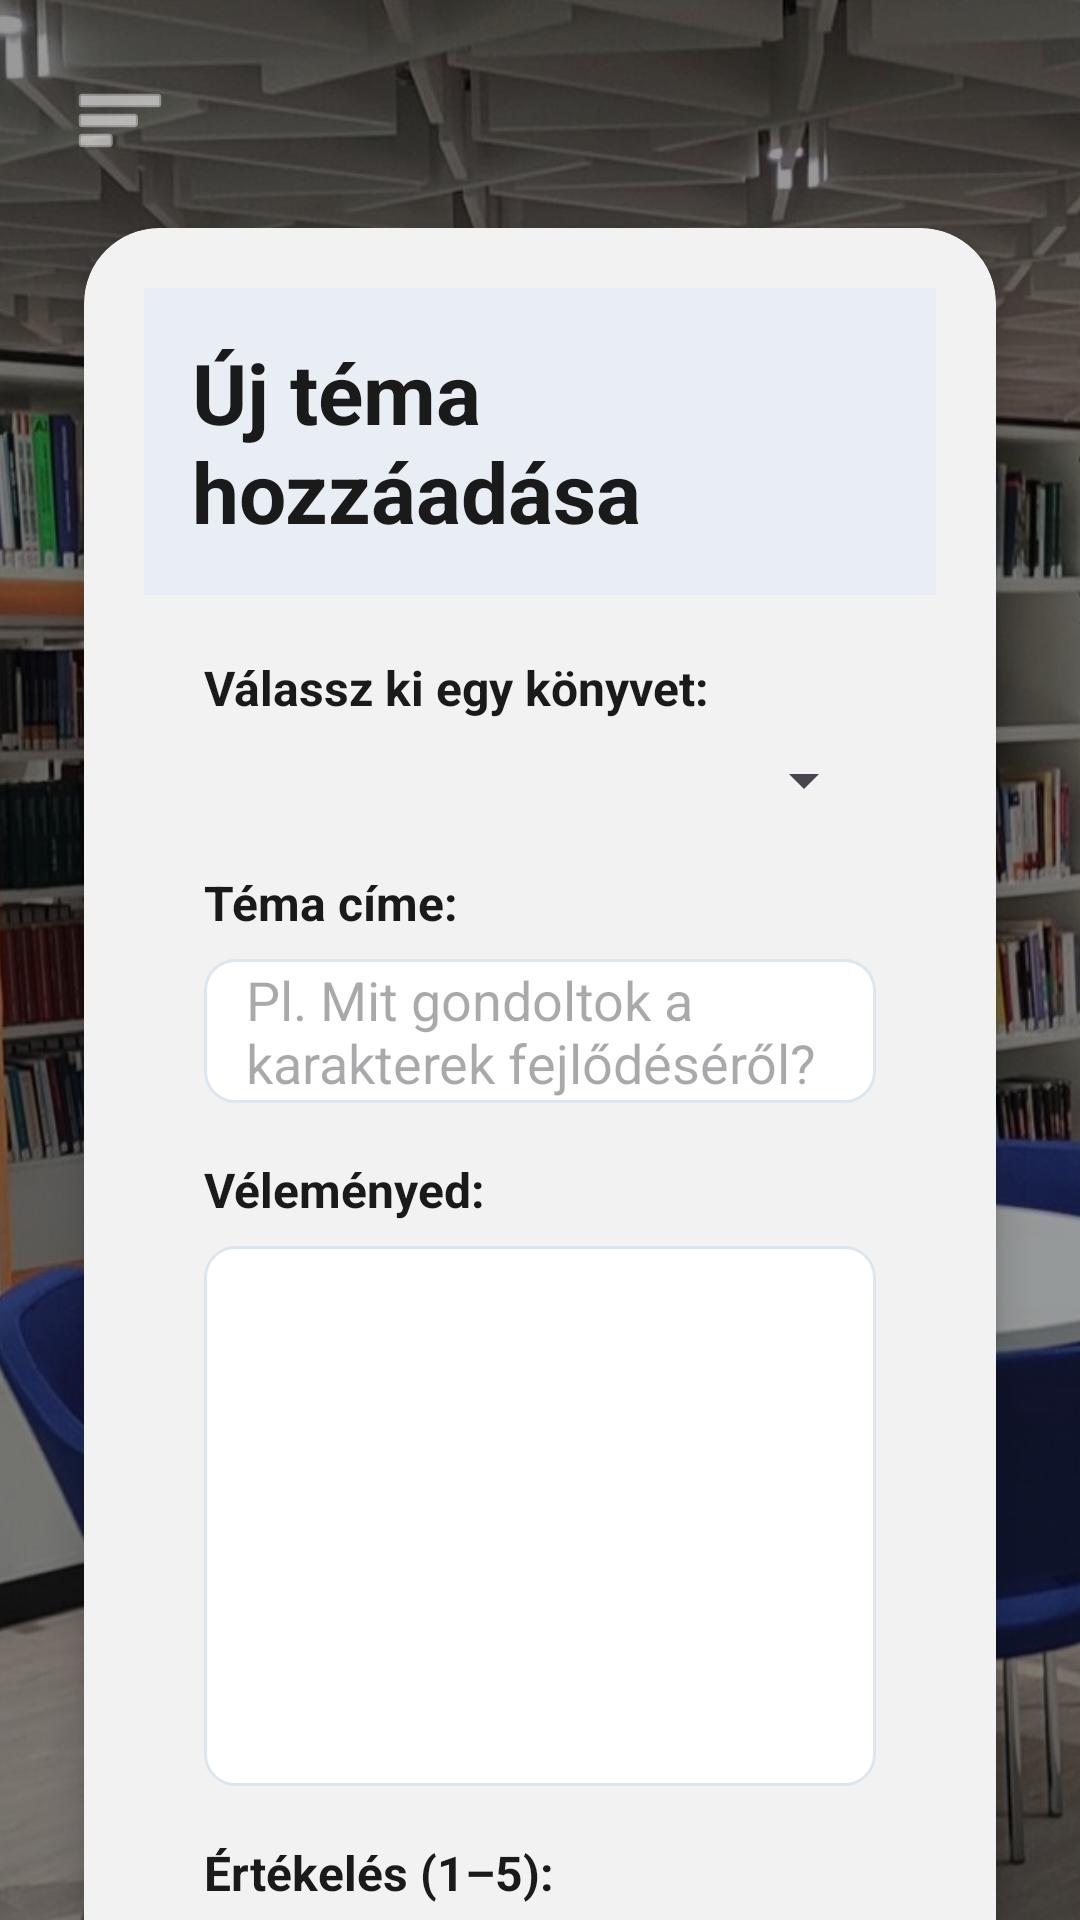

Icon bounding boxes for this 1080px x 1920px phone screenshot, format bbox=(x1, y1, x2, y2):
Menü: bbox=(48, 94, 171, 191)
